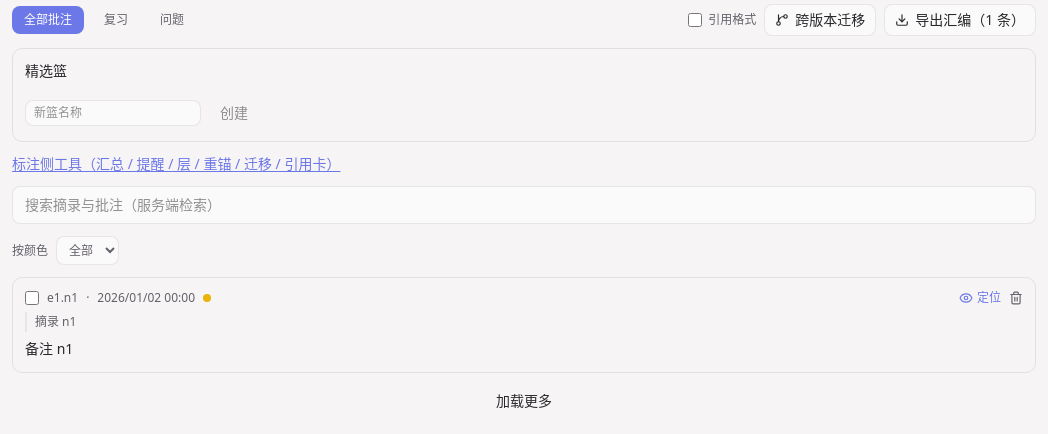
Scenario: FIX-254 清空筛选 → 续页从新查询起点开始 › 清空颜色筛选同理：续页不携带旧筛选的 cursor
// 等颜色下拉出现（color-labels 返回后渲染）
Select "高亮" in the dropdown named "按颜色筛选". click: x=88, y=250
box: [56,236,119,265]
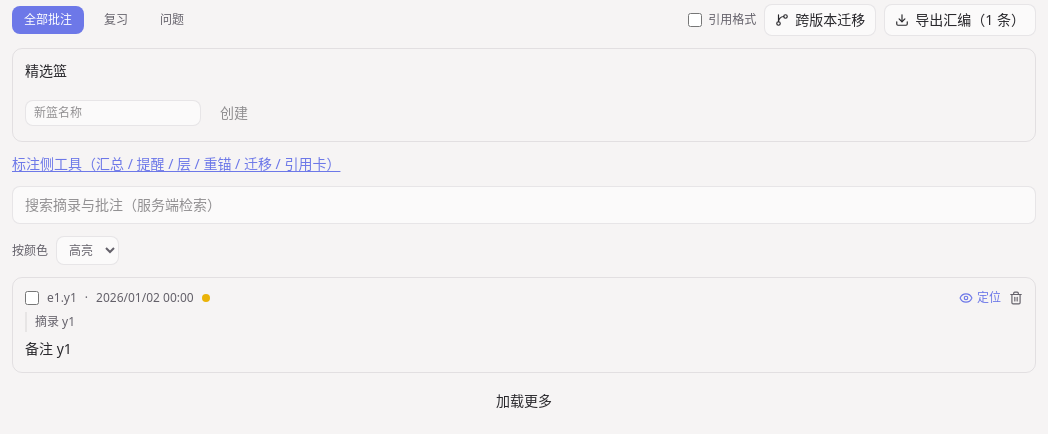
Result: the text "摘录 y1" is shown at [25,312,1023,332]
Click the button "加载更多". click: x=524, y=401
box: [12,385,1036,417]
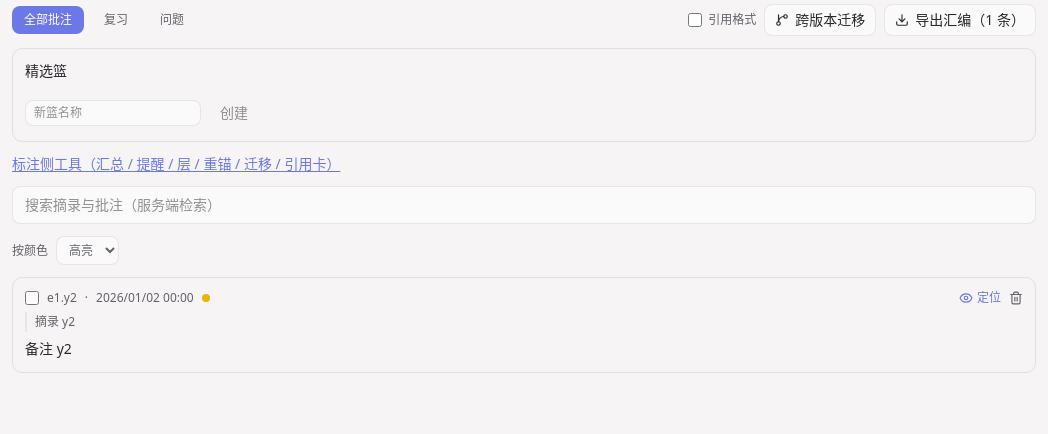
Result: the text "摘录 y2" is shown at [25,312,1023,332]
Select "全部" in the dropdown named "按颜色筛选". click: x=88, y=250
box: [56,236,119,265]
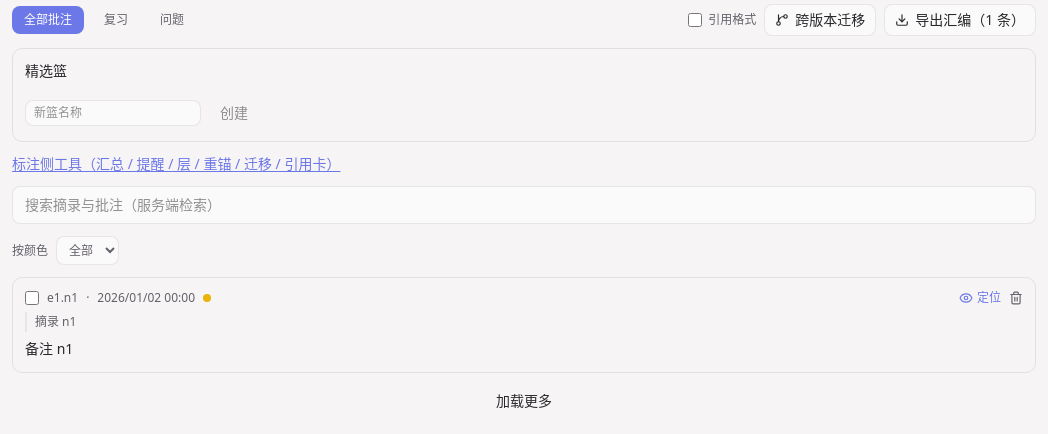
Result: the text "摘录 n1" is shown at [25,312,1023,332]
Click the button "加载更多". click: x=524, y=401
box: [12,385,1036,417]
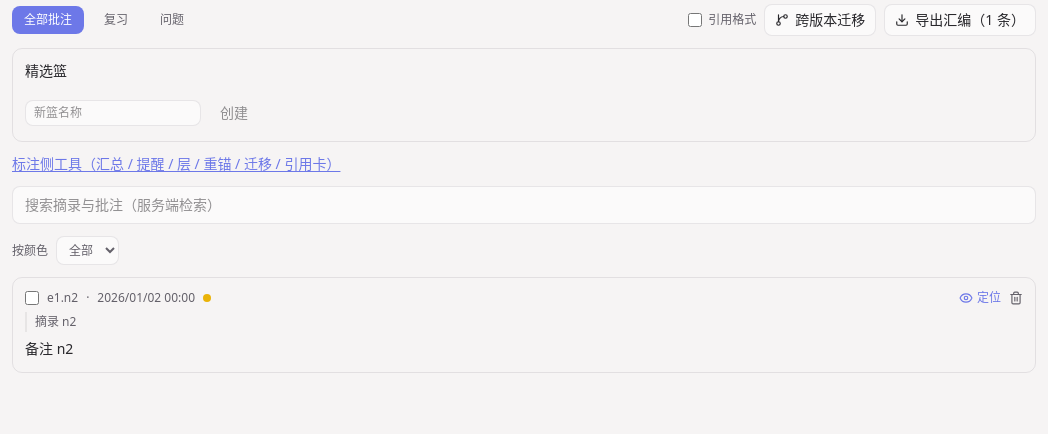
Result: the text "摘录 n2" is shown at [25,312,1023,332]
